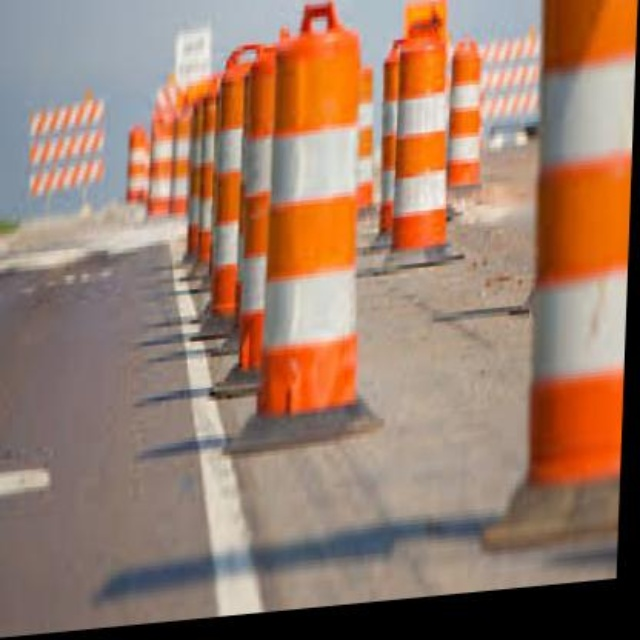obstacle: (259, 16, 366, 428), (391, 18, 452, 266)
